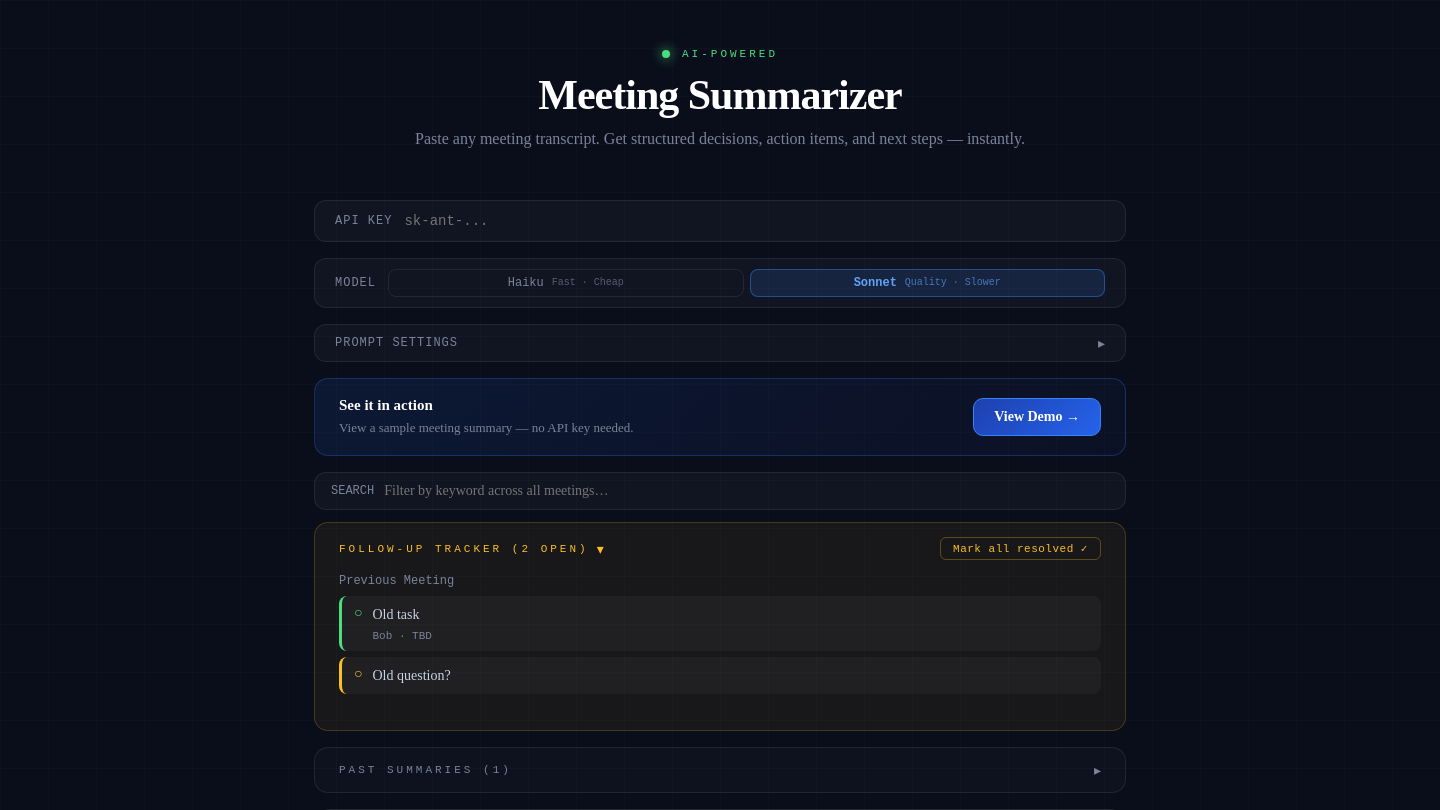
Test: follow-up tracker › toggles an item to resolved on click and persists to localStorage
The width and height of the screenshot is (1440, 810).
Click the text "Old task" at (396,615), box top-left (372, 607), bottom-right (420, 622)
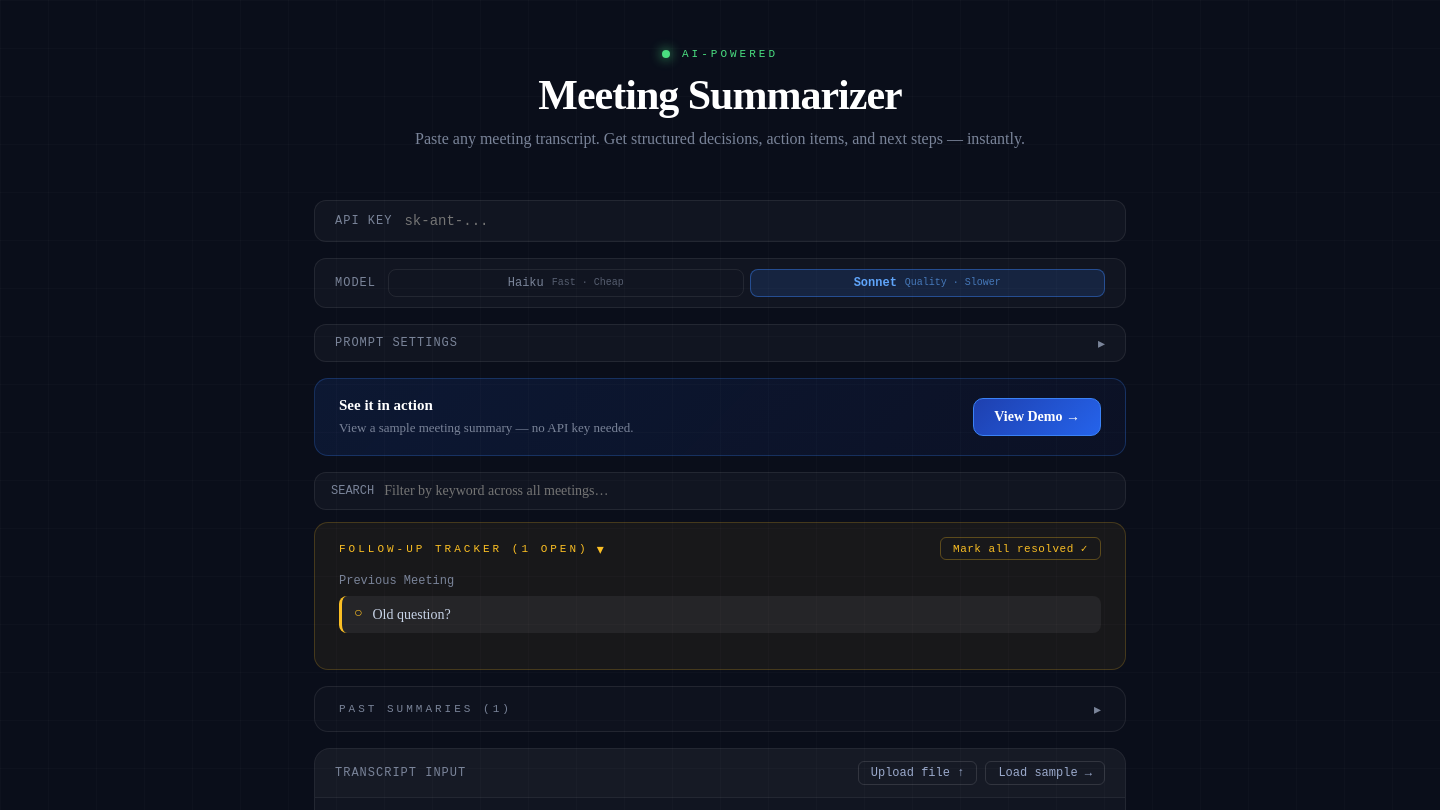
Result: the text "FOLLOW-UP TRACKER (1 open)" is shown at top-left (339, 543), bottom-right (589, 555)
